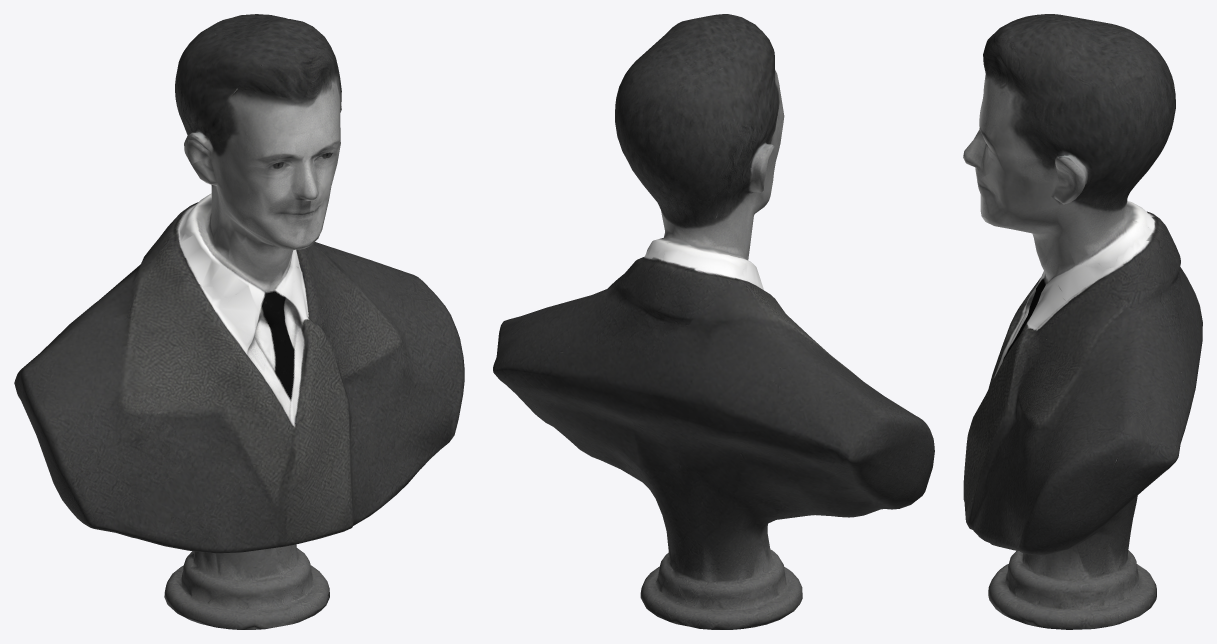
3 views of the same model, side by side, from view 1: azimuth 30°, elevation 25°; view 2: azimuth 150°, elevation 25°; view 3: azimuth 270°, elevation 25° (orthographic). The views are drawn at different scales.
Bounding box in the file's own units: 1.44 × 1.9 × 0.7066.
1 material, 1 textured.
